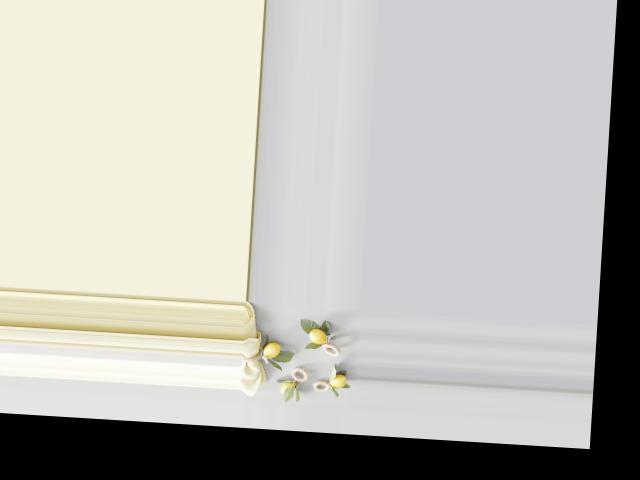lemon: (326, 369, 351, 388)
